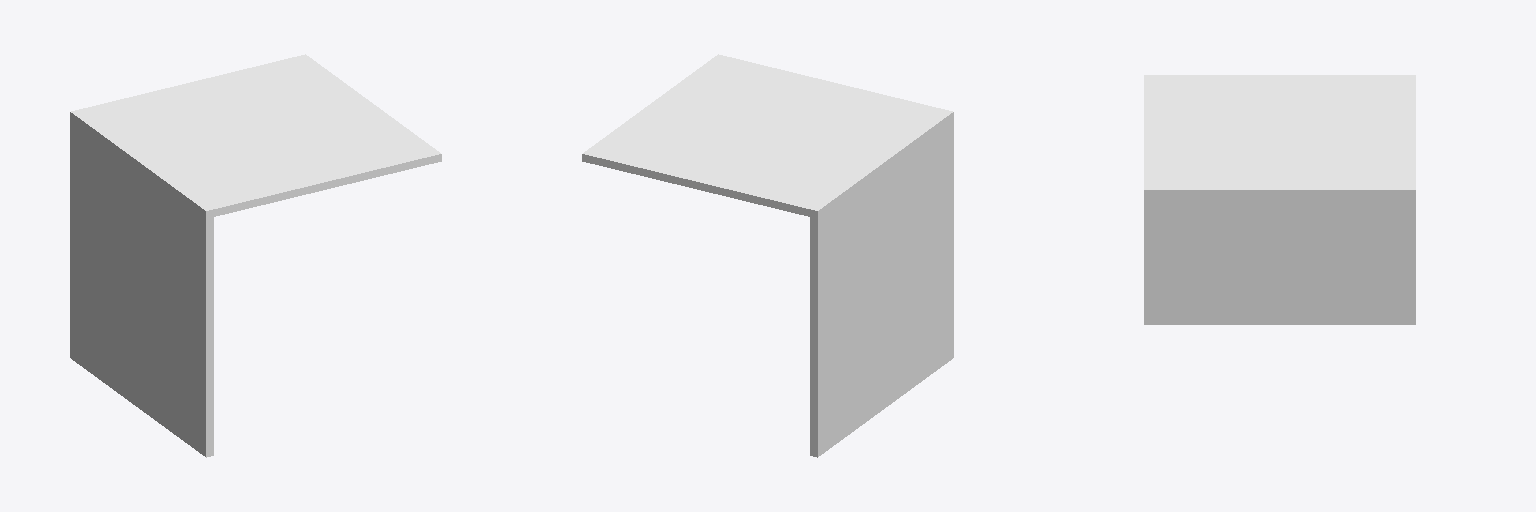
3 views of the same model, side by side, from view 1: azimuth 30°, elevation 25°; view 2: azimuth 150°, elevation 25°; view 3: azimuth 270°, elevation 25° (orthographic).
Visible parts, largest first — view 1: test-22; view 2: test-22; view 3: test-22.
Boxes of the visible parts, x1=… form: test-22: x1=70, y1=54, x2=441, y2=457; test-22: x1=582, y1=54, x2=953, y2=457; test-22: x1=1144, y1=75, x2=1415, y2=324.
Bounding box in the file's own units: 32 × 32 × 32.